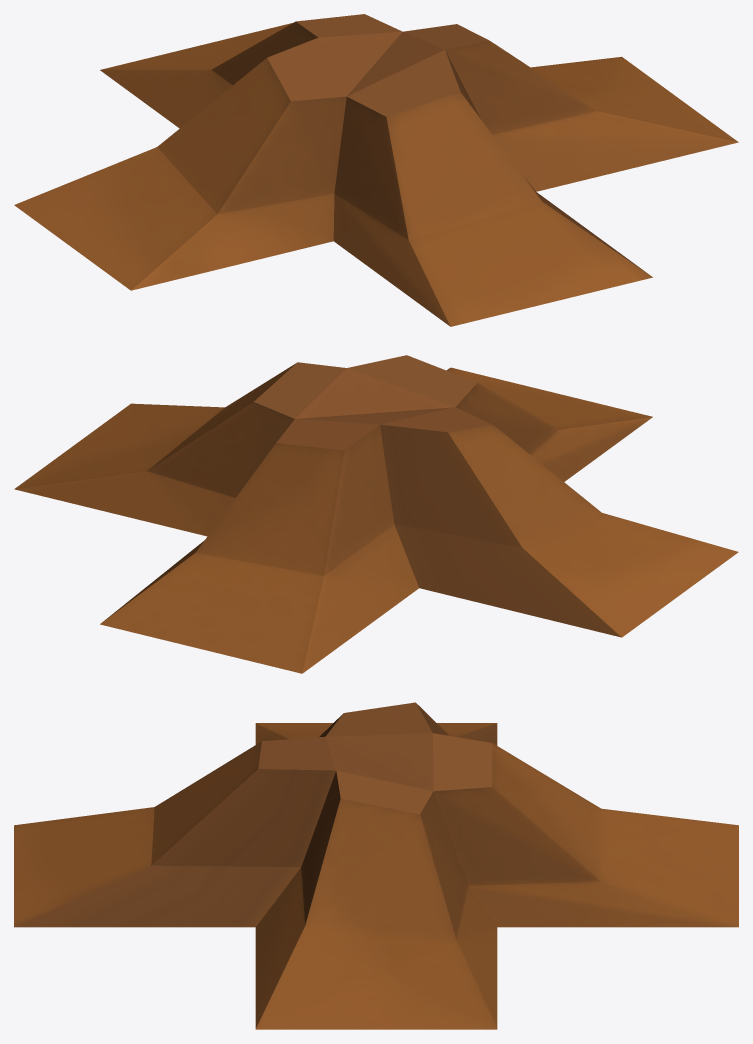
File: ArbrePrairie_H.FBX
3 views of the same model, one above another, from view 1: azimuth 30°, elevation 25°; view 2: azimuth 150°, elevation 25°; view 3: azimuth 270°, elevation 25° (orthographic). The views are drawn at different scales.
Parts seen in each view (by area): view 1: ArbrePrairie_H; view 2: ArbrePrairie_H; view 3: ArbrePrairie_H.
Boxes of the visible parts, left/top/right/bottom form: ArbrePrairie_H: left=14, top=14, right=738, bottom=326; ArbrePrairie_H: left=14, top=355, right=738, bottom=673; ArbrePrairie_H: left=14, top=702, right=738, bottom=1029.
Bounding box in the file's own units: 3 × 0.5958 × 3.
